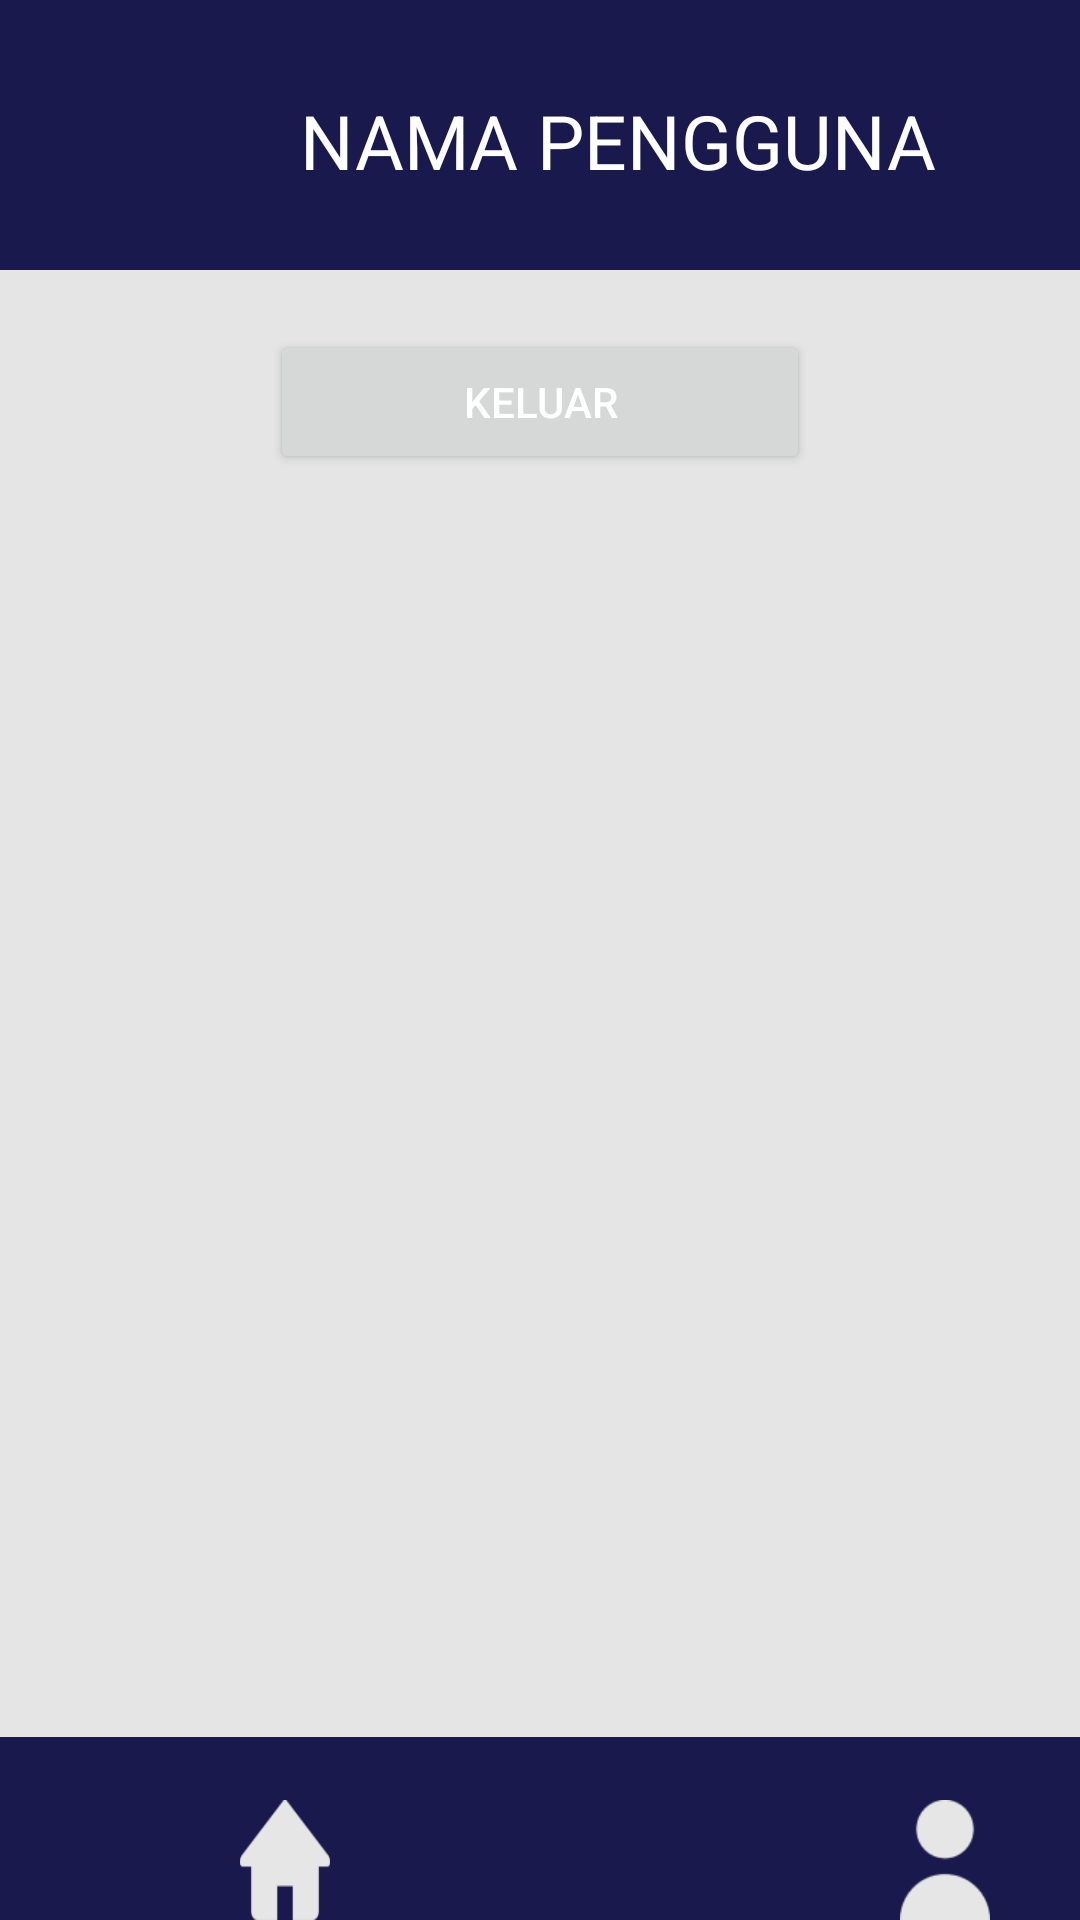

Where to tap for icons on this 1080w x 1920h app screen, as point (x, y):
home: point (285, 1860)
orang: point (945, 1860)
